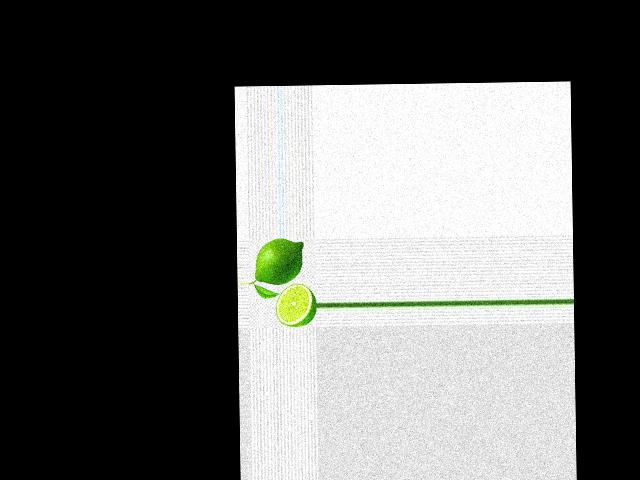lemon: (253, 240, 306, 287)
